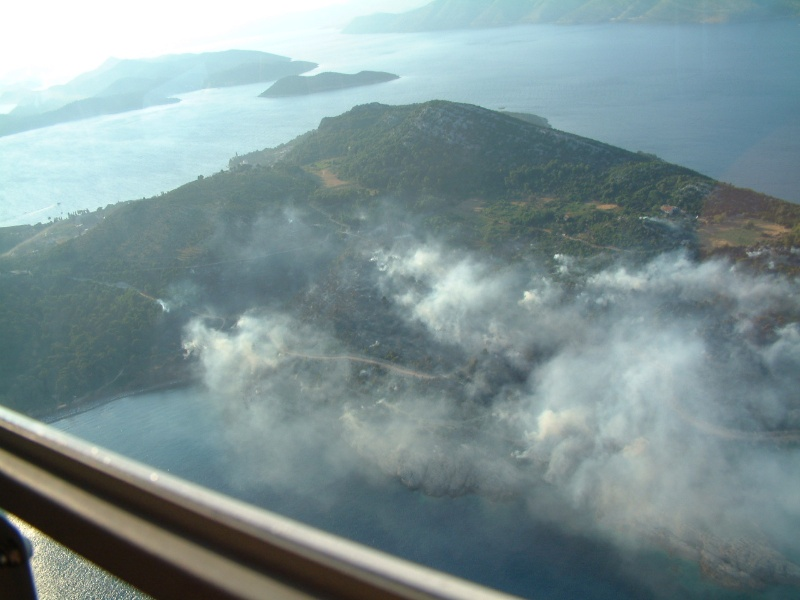smoke: (347, 271, 764, 541)
